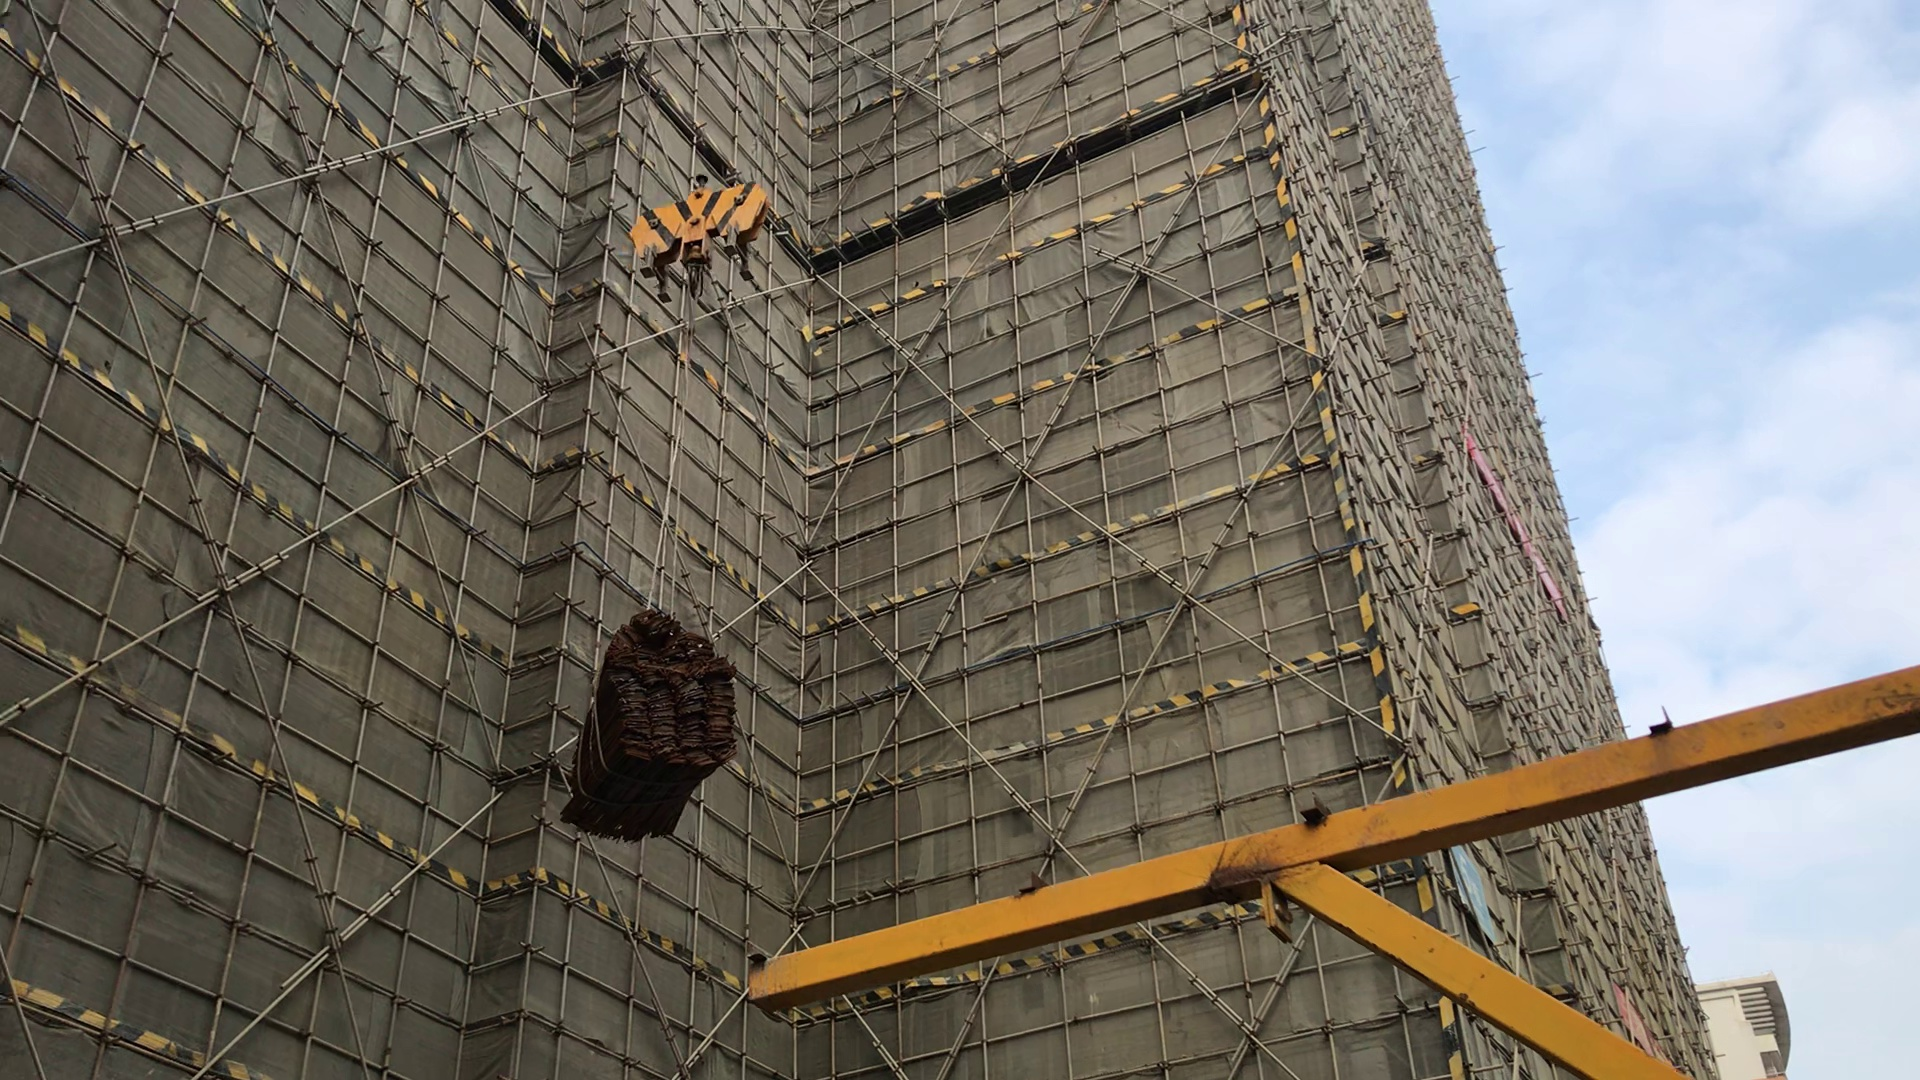hook: (636, 174, 774, 293)
